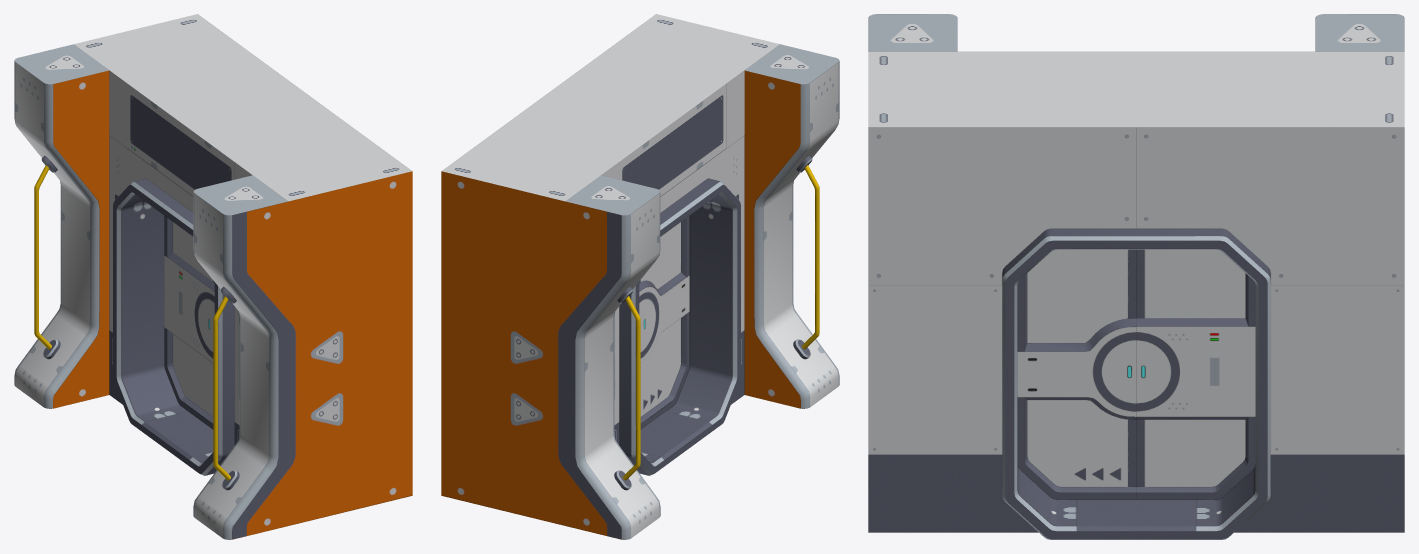
Rendered from Wall_Door_Simple_02.FBX.
3 renders of one model, left to right at view 1: azimuth 30°, elevation 25°; view 2: azimuth 150°, elevation 25°; view 3: azimuth 270°, elevation 25°, orthographic. The views are drawn at different scales.
Visible parts, largest first — view 1: Wall_Door_Simple_02, Door_Left, Wall_Fence_A, Wall_Fence_B; view 2: Wall_Door_Simple_02, Door_Right, Wall_Fence_B, Wall_Fence_A; view 3: Wall_Door_Simple_02, Door_Right, Door_Left.
Part boxes in pixels (<box>): Wall_Door_Simple_02: <box>14,14,412,539</box>; Door_Left: <box>164,216,214,428</box>; Wall_Fence_A: <box>34,155,60,359</box>; Wall_Fence_B: <box>213,286,239,490</box>; Wall_Door_Simple_02: <box>441,14,839,539</box>; Door_Right: <box>639,216,689,428</box>; Wall_Fence_B: <box>793,155,819,359</box>; Wall_Fence_A: <box>614,286,640,490</box>; Wall_Door_Simple_02: <box>868,14,1404,539</box>; Door_Right: <box>1017,249,1136,499</box>; Door_Left: <box>1136,249,1255,499</box>.
Bounding box in the file's own units: 3.25 × 5 × 6.
Materials: 3 (3 with a texture image).
